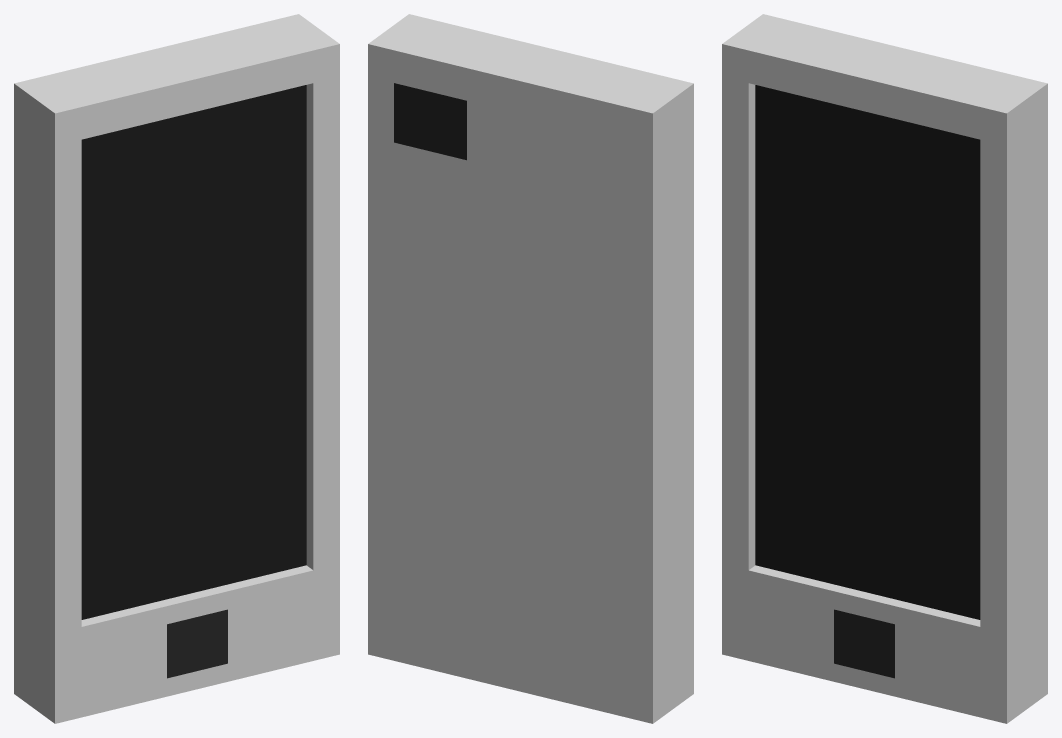
File: SmartPhoneWhite.fbx
3 views of the same model, side by side, from view 1: azimuth 30°, elevation 25°; view 2: azimuth 150°, elevation 25°; view 3: azimuth 330°, elevation 25° (orthographic).
Visible parts, largest first — view 1: SmartPhoneWhite; view 2: SmartPhoneWhite; view 3: SmartPhoneWhite.
Part boxes in pixels (<box>): SmartPhoneWhite: <box>14,14,339,723</box>; SmartPhoneWhite: <box>368,14,693,723</box>; SmartPhoneWhite: <box>722,14,1047,723</box>.
Bounding box in the file's own units: 0.1294 × 0.2651 × 0.0323.
